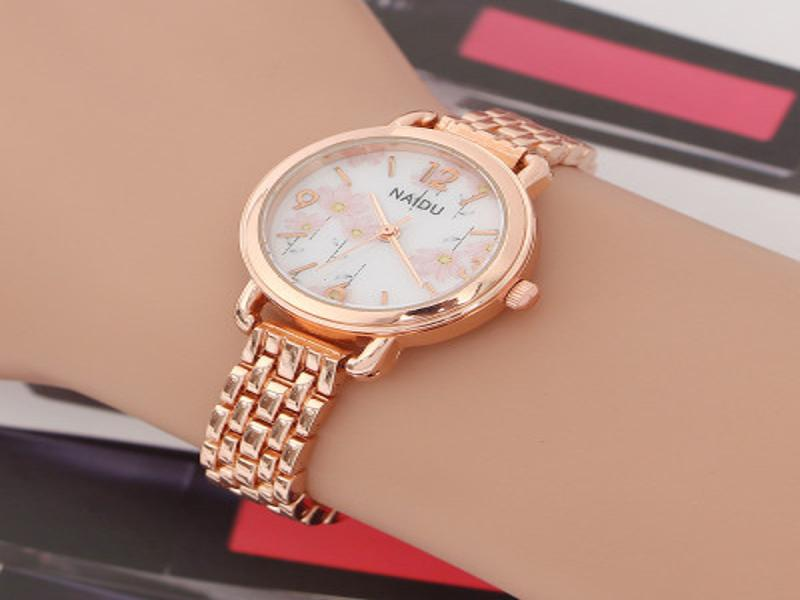watch: (193, 100, 602, 526)
